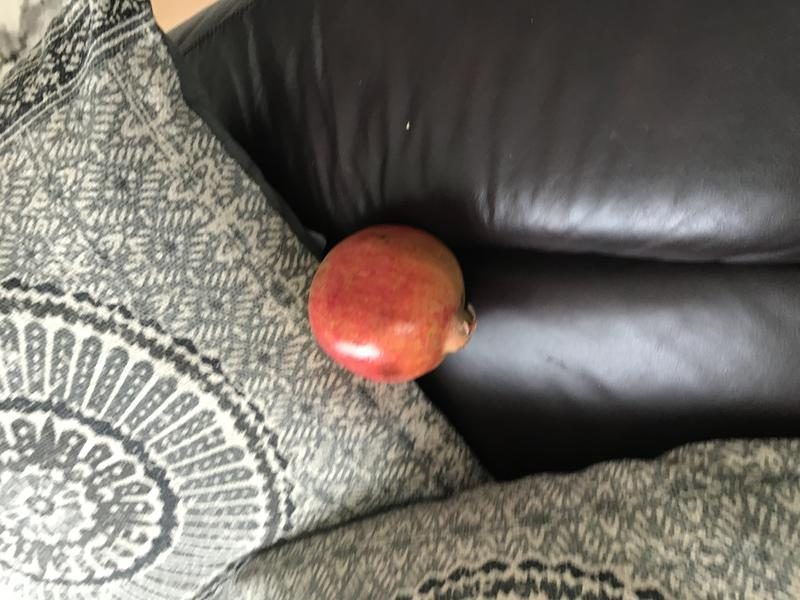pomegranate: (298, 218, 486, 382)
